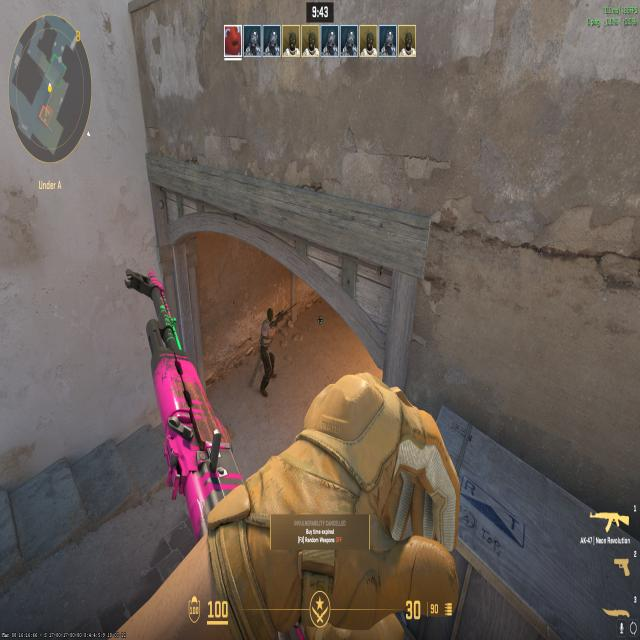t: (259, 303, 277, 398)
